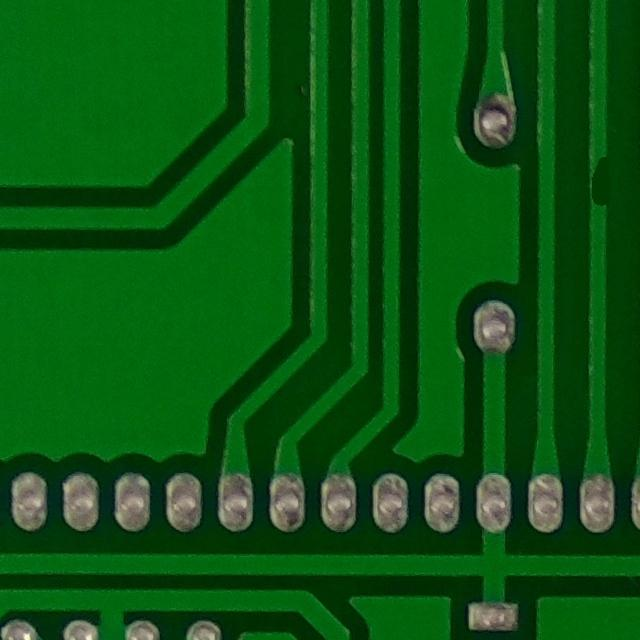mouse_bite: (575, 141, 631, 217)
